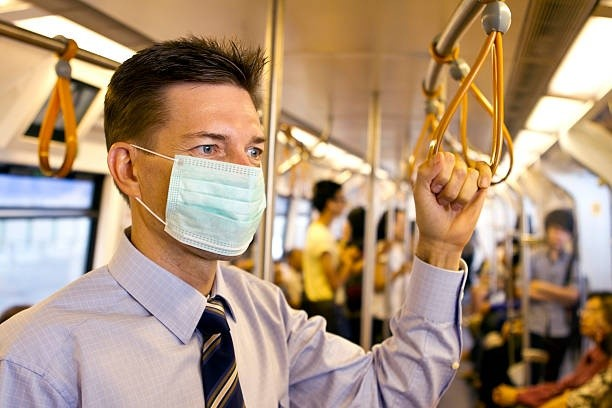face_with_mask: (110, 71, 273, 272)
